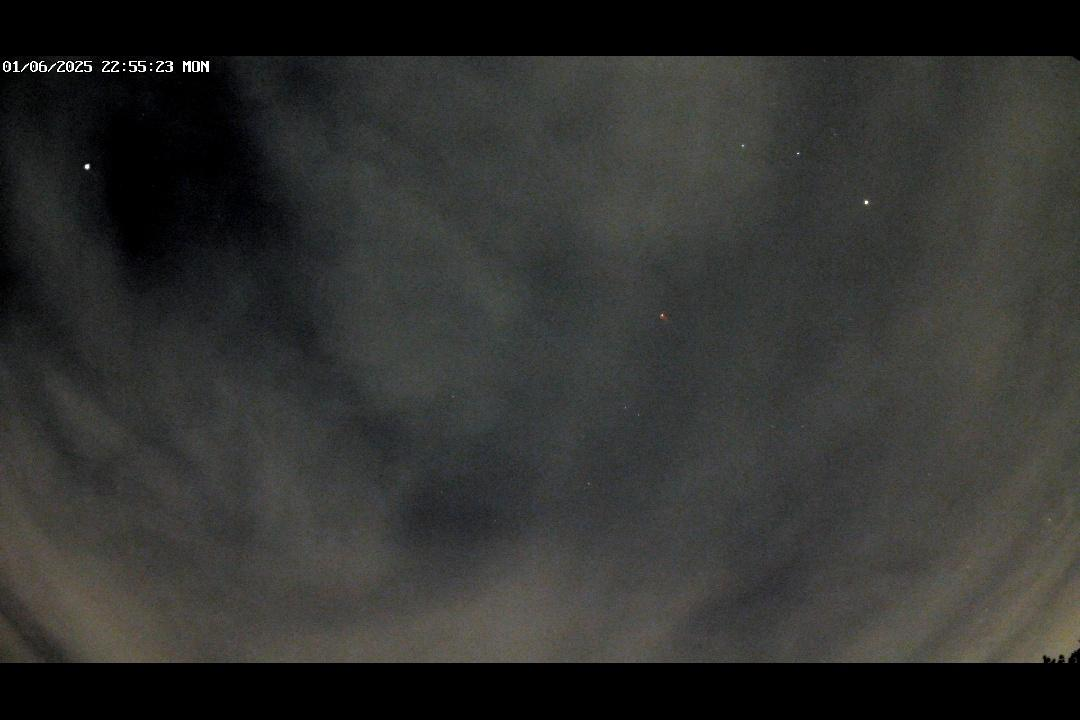Plane: (654, 307, 682, 332)
